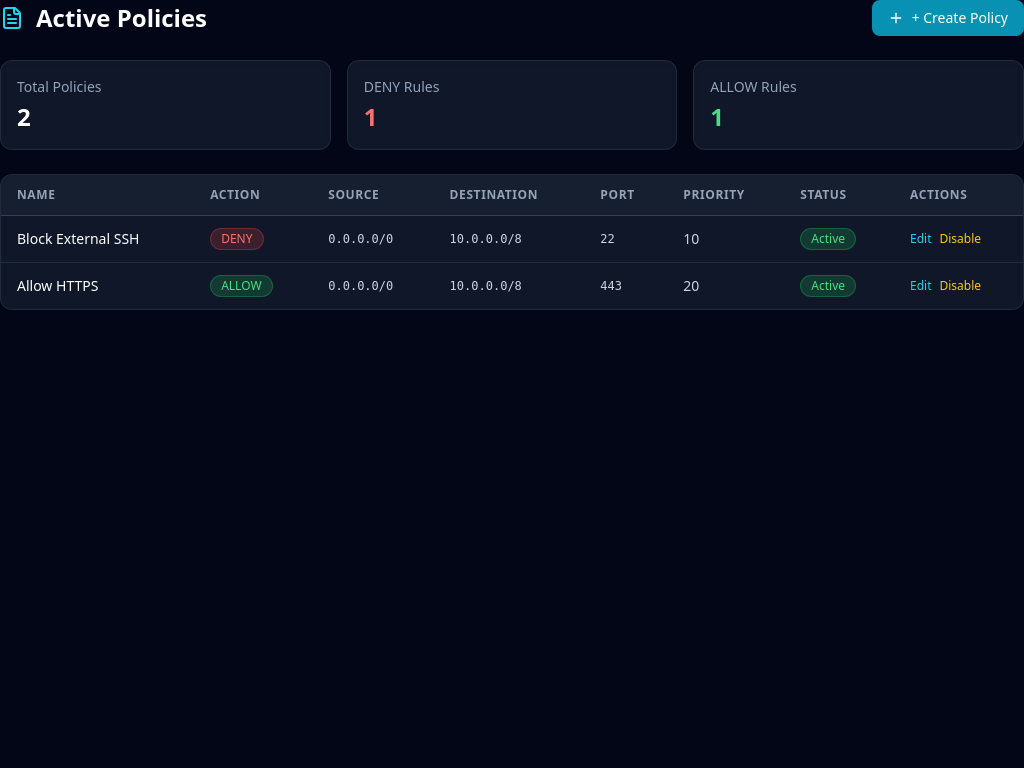
Test: Policies › shows success message after successful creation
The width and height of the screenshot is (1024, 768).
Expected: the text "Block External SSH" is shown, [1, 216, 194, 262]
Step 1. Click the button "+ Create Policy" → (948, 18), box [872, 0, 1023, 36]
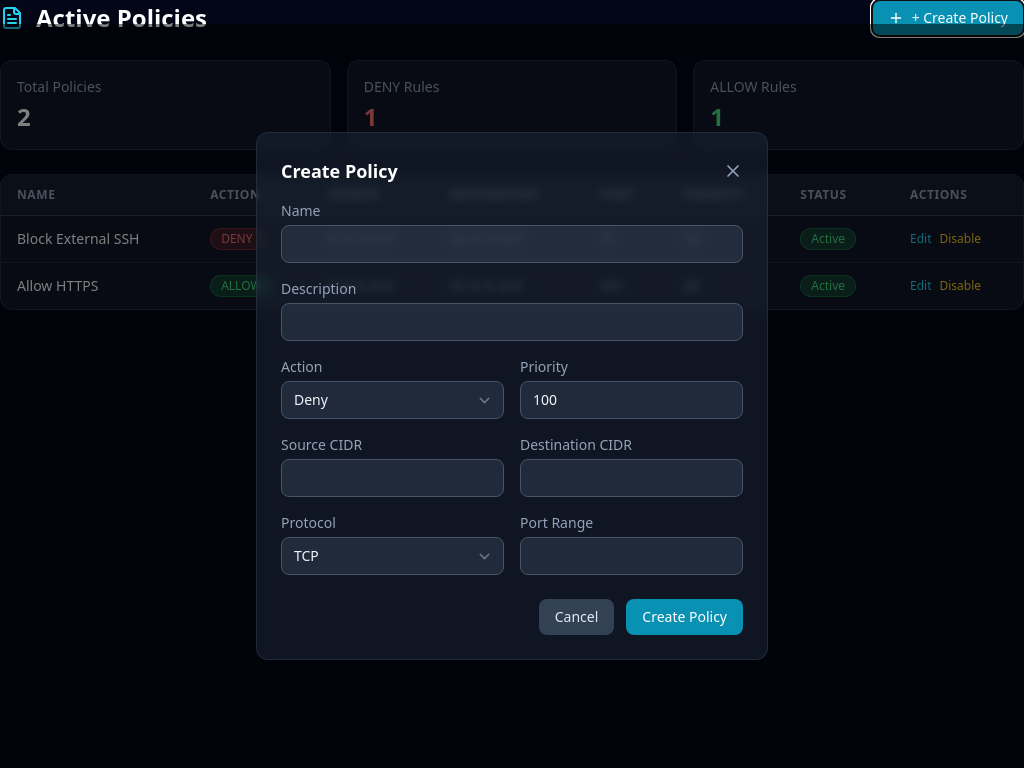
Step 2. Type "New Rule" into the 1st field → (512, 244), box [281, 225, 743, 263]
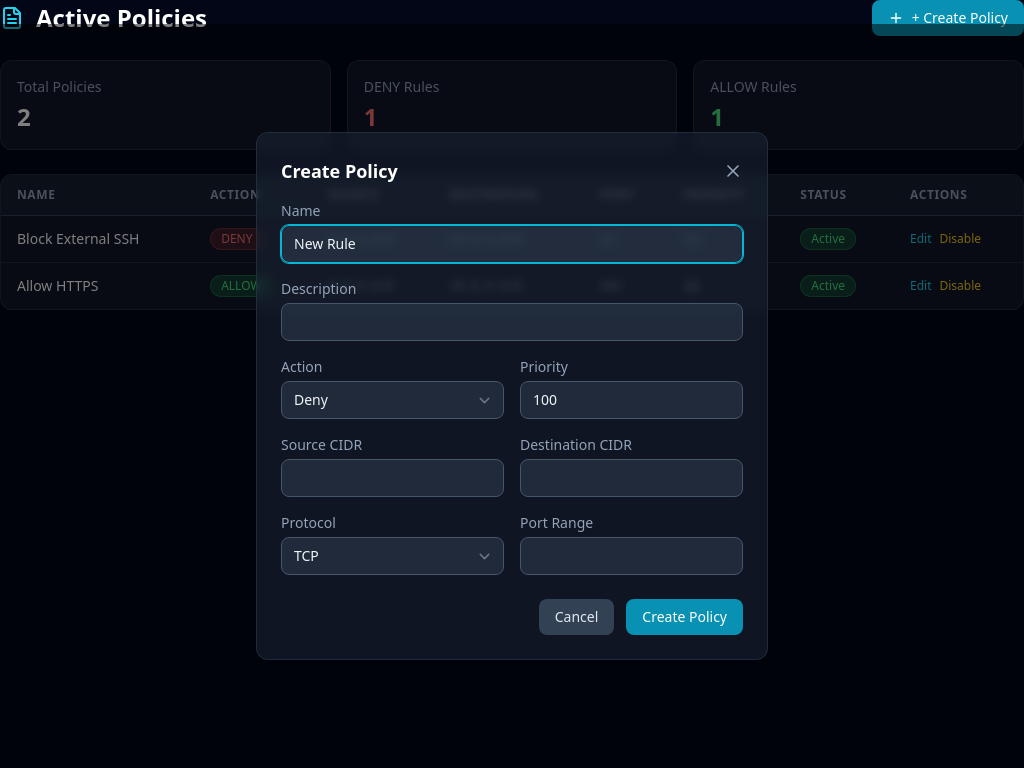
Step 3. Click the button "Create Policy" → (685, 617), box [626, 599, 743, 635]
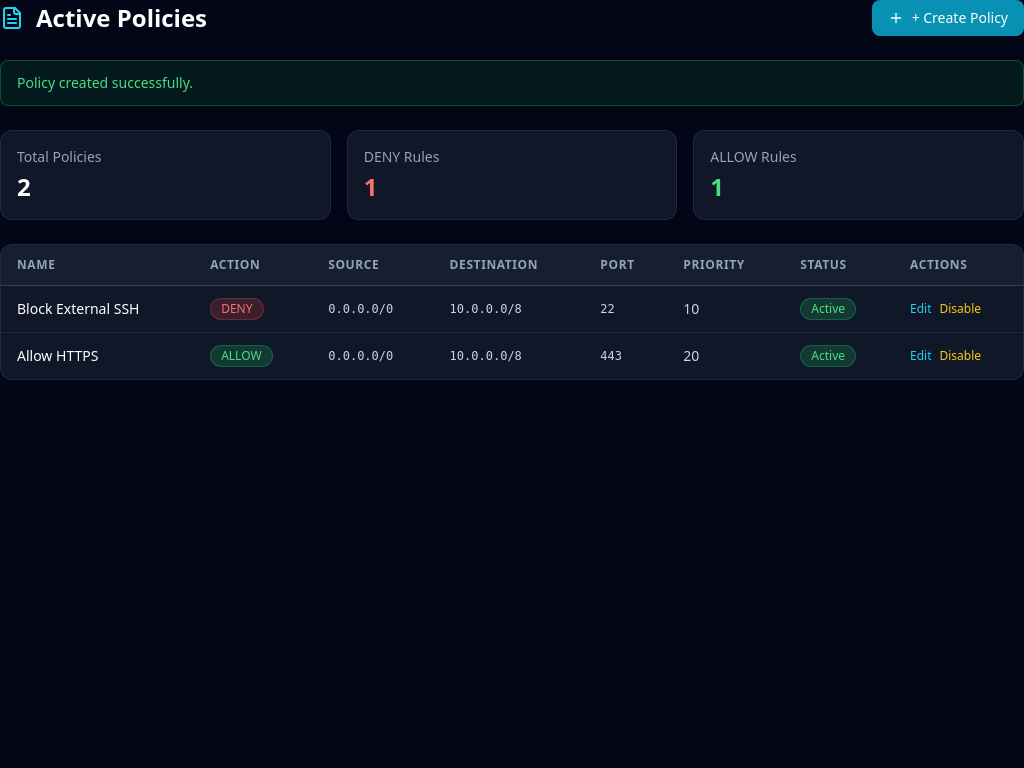
Result: the text "Policy created successfully." is shown at [0, 60, 1023, 106]
